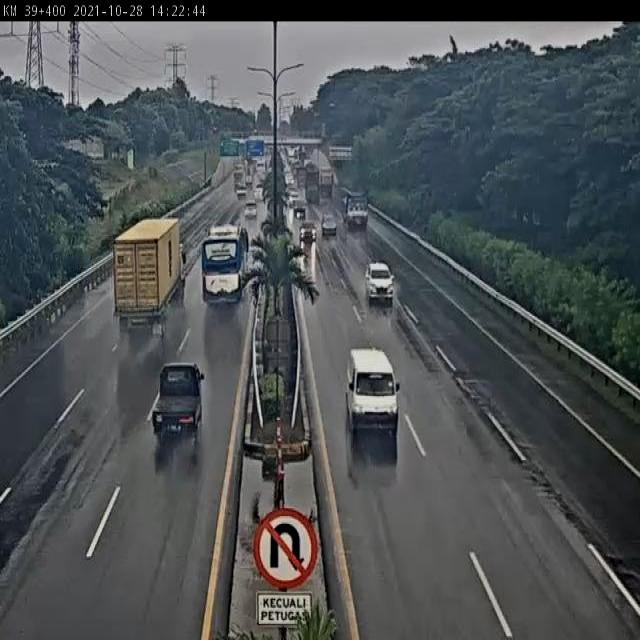Bus: (194, 222, 259, 315)
Car: (137, 355, 212, 450), (362, 254, 405, 313), (298, 221, 318, 248), (321, 212, 340, 239), (243, 199, 260, 220), (235, 184, 249, 203)
Truck: (104, 216, 192, 339), (340, 187, 372, 233), (317, 166, 337, 196)
Van: (332, 347, 418, 455)
